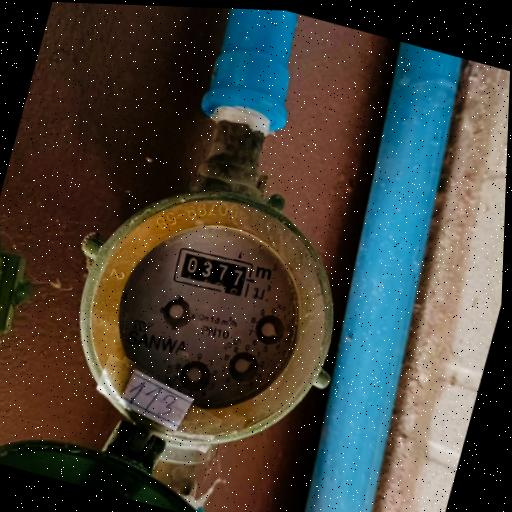0: (180, 253, 202, 281)
3: (195, 256, 219, 285)
7: (222, 263, 249, 298), (211, 259, 232, 287)
border_water_meter_number: (171, 244, 257, 301)
